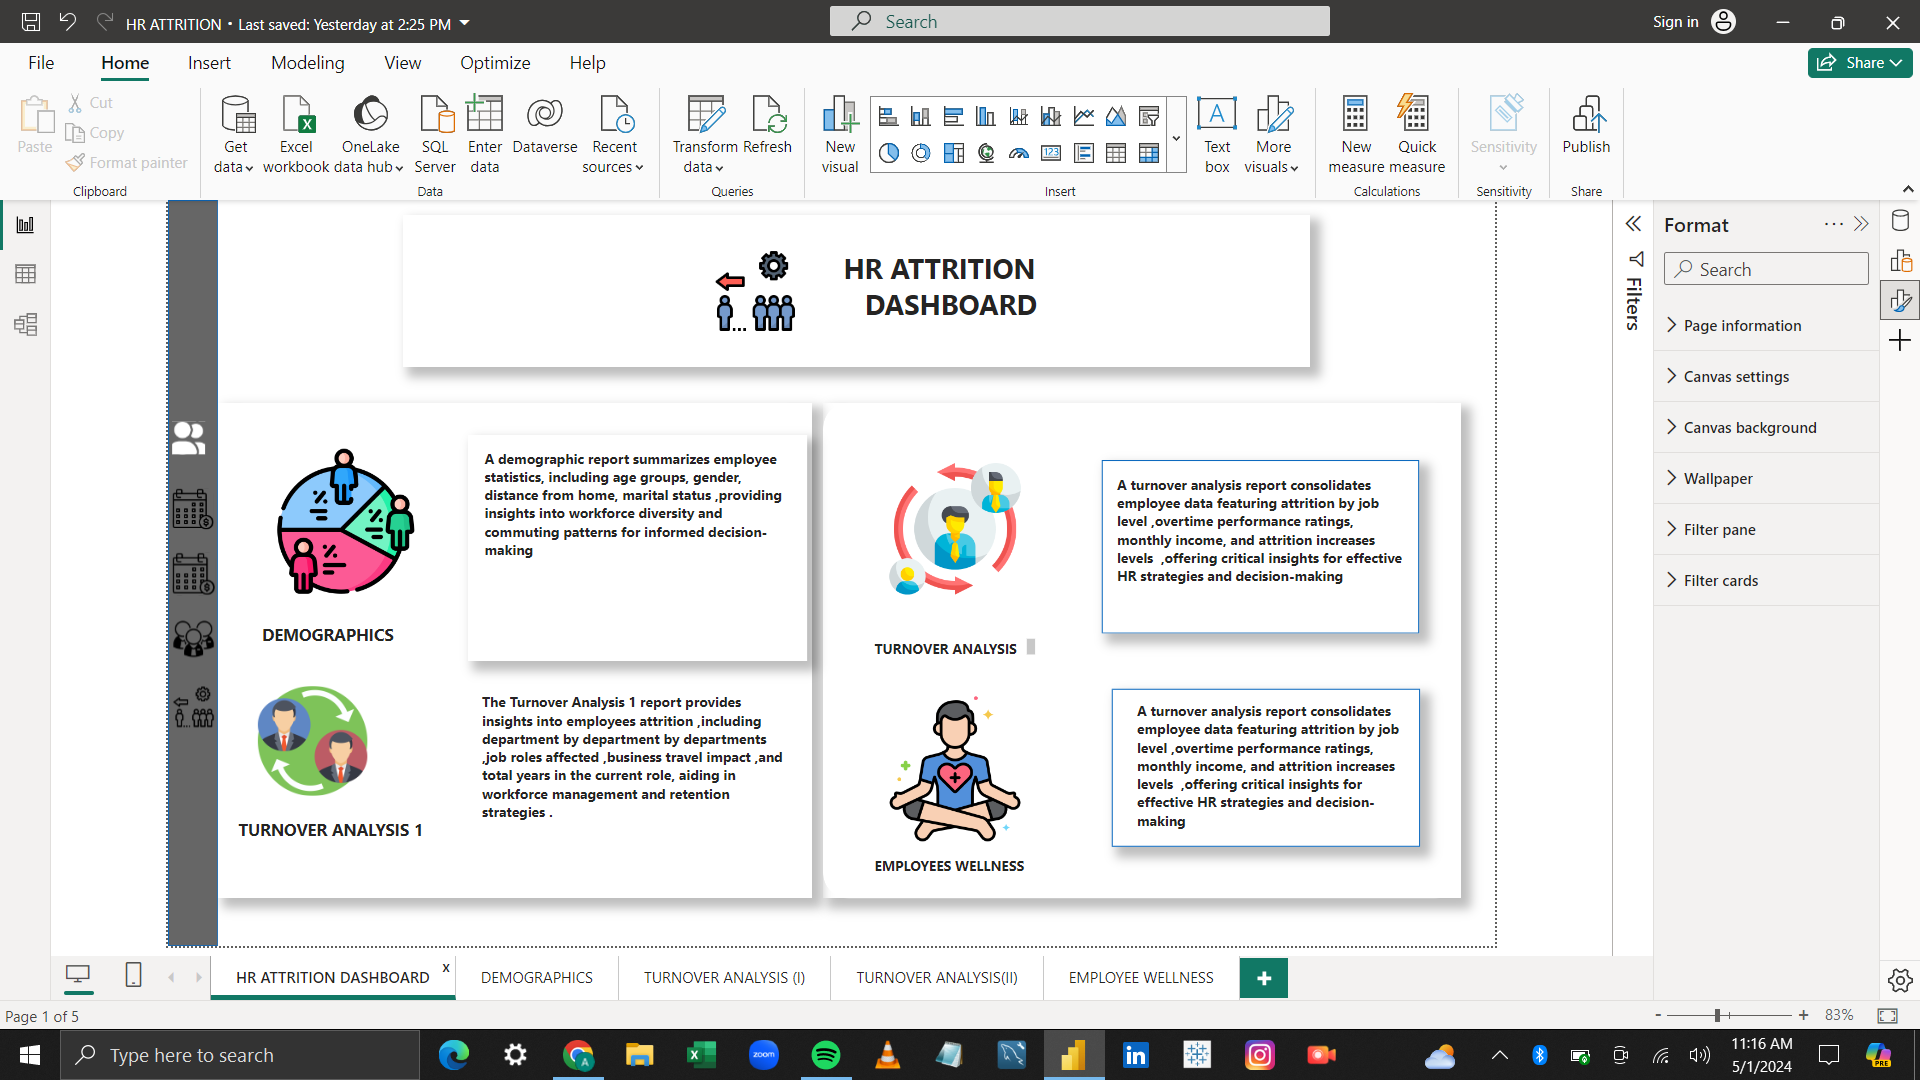

Layout of this report page (visuals, bound fields, positions):
{"tool":"powerbi","page":{"name":"HR ATTRITION DASHBOARD ","canvas":[1280,720],"ordinal":0},"visuals":[{"type":"shape","box":[226.2,15,875,146.2],"z":0},{"type":"image","box":[78.9,235.5,186.2,150],"z":0,"group":"g1"},{"type":"actionButton","box":[0,464.3,49.4,49.4],"z":0,"group":"g2"},{"type":"image","box":[516.2,42.5,100,91.2],"z":1000},{"type":"actionButton","box":[0,335.2,49.4,50.7],"z":1000,"group":"g2"},{"type":"textbox","box":[85.2,402.9,153.8,41.2],"z":1000,"group":"g1"},{"type":"textbox","box":[990,265,237.5,150],"z":2000},{"type":"actionButton","box":[0,270.1,48.2,55.5],"z":2000,"group":"g2"},{"type":"image","box":[62.7,464.2,153.8,115],"z":2000,"group":"g1"},{"type":"textbox","box":[556.2,42.5,383.8,108.8],"z":3000},{"type":"actionButton","box":[0,395.5,49.4,55.5],"z":3000,"group":"g2"},{"type":"textbox","box":[62.7,590.5,200,31.2],"z":3000,"group":"g1"},{"type":"shape","box":[48.2,195.4,572.9,477.6],"z":4000},{"type":"actionButton","box":[0,209.8,48.2,39.8],"z":4000,"group":"g2"},{"type":"textbox","box":[308.9,262.9,275,140],"z":4000,"group":"g1"},{"type":"shape","box":[632.5,195,615,478.8],"z":5000},{"type":"shape","box":[288.9,226.7,327.5,217.5],"z":5000,"group":"g1"},{"type":"group","id":"g1","title":"First chart1","box":[62.7,226.7,553.6,394.4],"z":6000},{"type":"textbox","box":[300.2,235.5,307.5,188.8],"z":6000,"group":"g1"},{"type":"image","box":[676.2,242.5,165,150],"z":7000},{"type":"textbox","box":[297.4,470.1,307.5,143.8],"z":7000,"group":"g1"},{"type":"textbox","box":[676.2,418.8,165,31.2],"z":8000},{"type":"image","box":[676.2,473.8,165,150],"z":9000},{"type":"textbox","box":[676.2,628.8,165,31.2],"z":10000},{"type":"shape","box":[901.2,251.2,306.2,167.5],"z":11000},{"type":"shape","box":[910,471.2,297.5,152.5],"z":12000},{"type":"textbox","box":[910,260,286.2,150],"z":13000},{"type":"textbox","box":[930,478.8,266.2,135],"z":14000},{"type":"shape","box":[0,0,48.2,720],"z":15000},{"type":"group","id":"g2","title":"Menu","box":[0,209.8,49.4,303.9],"z":15001}]}

Visuals, with their boxes on the page's 1280x720 design canvas (x1, y1, x2, y2). These are canvas units, not pixel positions in the 1920x1080 screenshot, which may show the page scaled, cropped or inside an application window:
shape: [x1=226, y1=15, x2=1101, y2=161]
image: [x1=79, y1=236, x2=265, y2=386]
actionButton: [x1=0, y1=464, x2=49, y2=514]
image: [x1=516, y1=42, x2=616, y2=134]
actionButton: [x1=0, y1=335, x2=49, y2=386]
textbox: [x1=85, y1=403, x2=239, y2=444]
textbox: [x1=990, y1=265, x2=1228, y2=415]
actionButton: [x1=0, y1=270, x2=48, y2=326]
image: [x1=63, y1=464, x2=216, y2=579]
textbox: [x1=556, y1=42, x2=940, y2=151]
actionButton: [x1=0, y1=396, x2=49, y2=451]
textbox: [x1=63, y1=590, x2=263, y2=622]
shape: [x1=48, y1=195, x2=621, y2=673]
actionButton: [x1=0, y1=210, x2=48, y2=250]
textbox: [x1=309, y1=263, x2=584, y2=403]
shape: [x1=632, y1=195, x2=1248, y2=674]
shape: [x1=289, y1=227, x2=616, y2=444]
"First chart1" group: [x1=63, y1=227, x2=616, y2=621]
textbox: [x1=300, y1=236, x2=608, y2=424]
image: [x1=676, y1=242, x2=841, y2=392]
textbox: [x1=297, y1=470, x2=605, y2=614]
textbox: [x1=676, y1=419, x2=841, y2=450]
image: [x1=676, y1=474, x2=841, y2=624]
textbox: [x1=676, y1=629, x2=841, y2=660]
shape: [x1=901, y1=251, x2=1207, y2=419]
shape: [x1=910, y1=471, x2=1208, y2=624]
textbox: [x1=910, y1=260, x2=1196, y2=410]
textbox: [x1=930, y1=479, x2=1196, y2=614]
shape: [x1=0, y1=0, x2=48, y2=720]
"Menu" group: [x1=0, y1=210, x2=49, y2=514]
